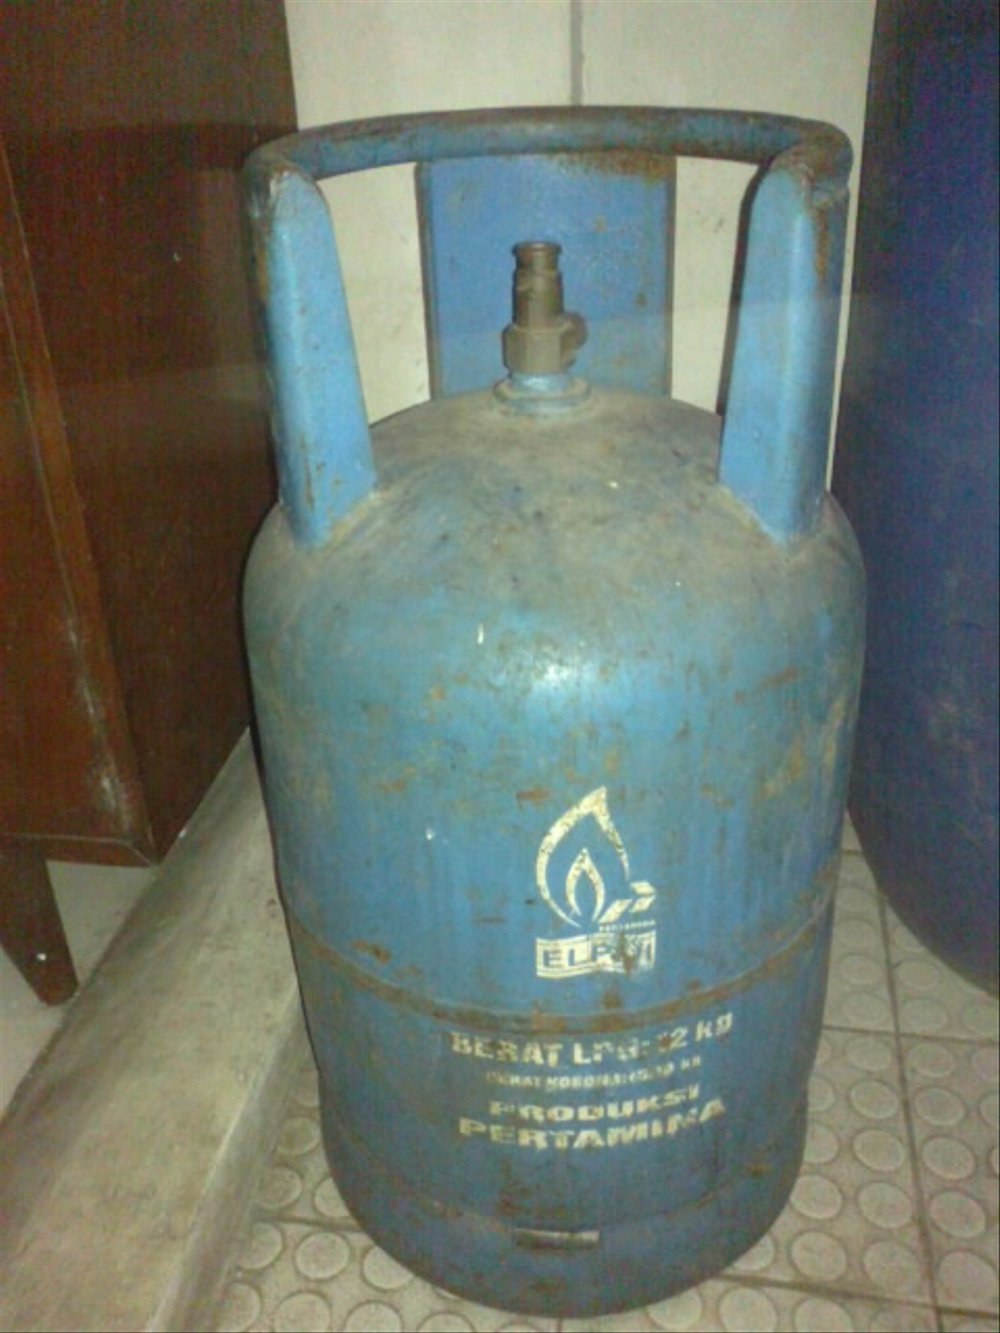blue_gas: (238, 103, 871, 1316)
